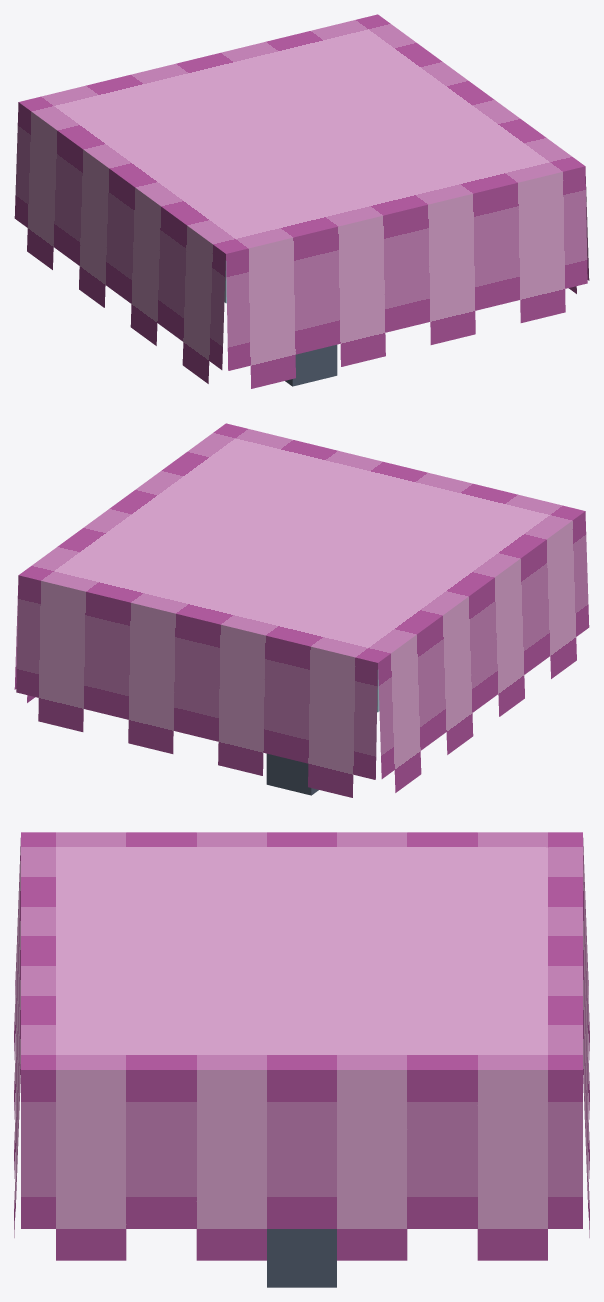
Rendered from table_pink.gltf.
3 views of the same model, one above another, from view 1: azimuth 30°, elevation 25°; view 2: azimuth 150°, elevation 25°; view 3: azimuth 270°, elevation 25° (orthographic). The views are drawn at different scales.
Parts seen in each view (by area): view 1: pano; view 2: pano; view 3: pano.
Part boxes in pixels (left/top/right/bottom): pano: left=14, top=14, right=589, bottom=388; pano: left=14, top=423, right=589, bottom=797; pano: left=14, top=832, right=589, bottom=1287.
Size of the model in its own units: 1.02 by 0.6313 by 1.02.
1 material, 1 textured.
